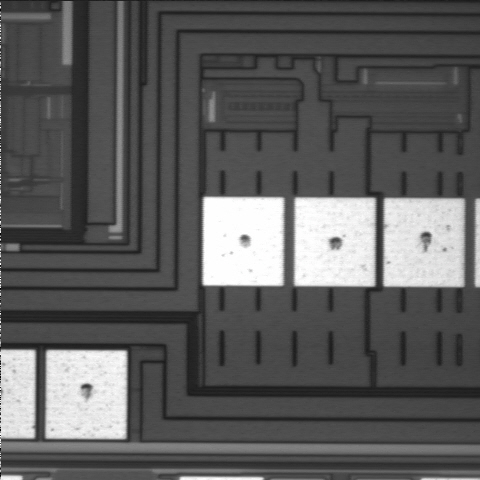pad: (203, 197, 284, 286), (46, 350, 127, 439), (294, 198, 375, 286), (384, 198, 464, 287)
